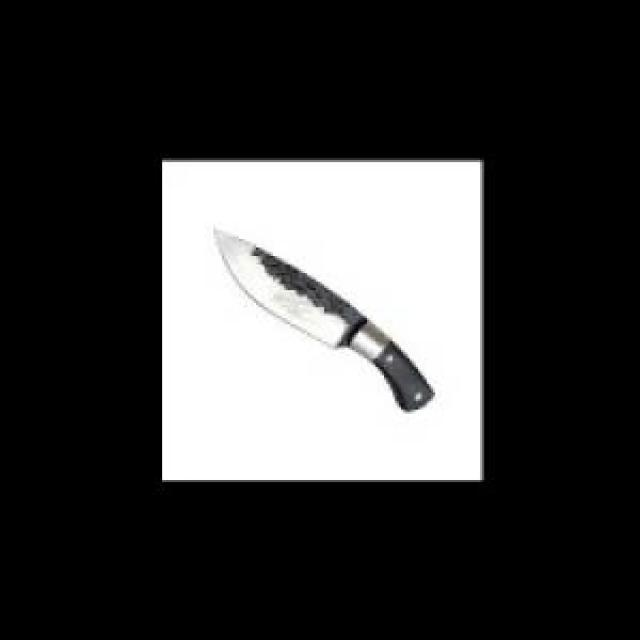knife: (209, 228, 438, 413)
